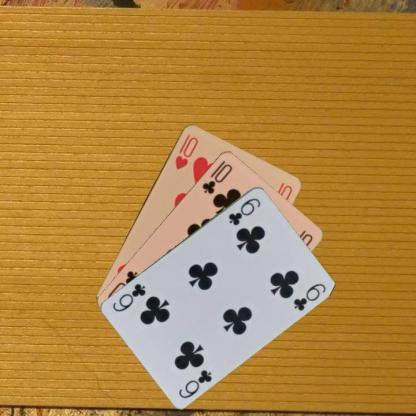10c: (199, 160, 233, 196)
10h: (172, 132, 200, 170)
6c: (176, 366, 214, 400), (226, 195, 262, 226)
